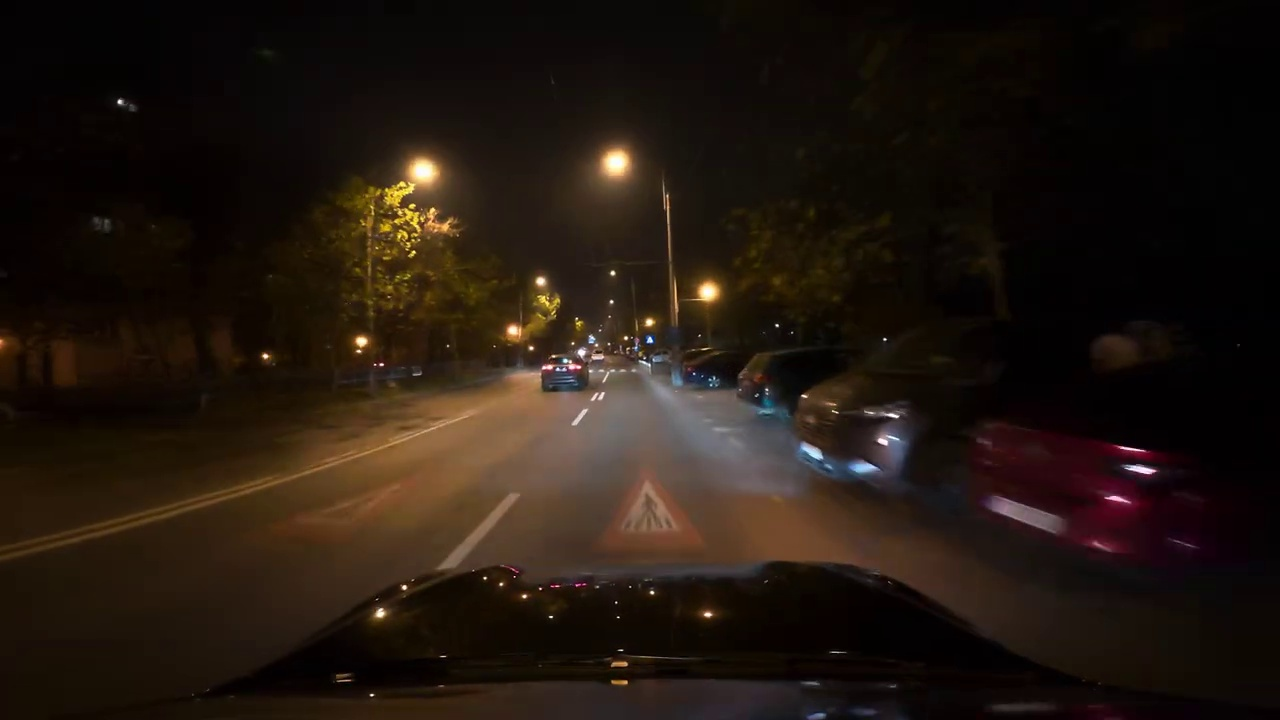acesa: (599, 148, 632, 179), (407, 157, 440, 188), (693, 279, 722, 306)
